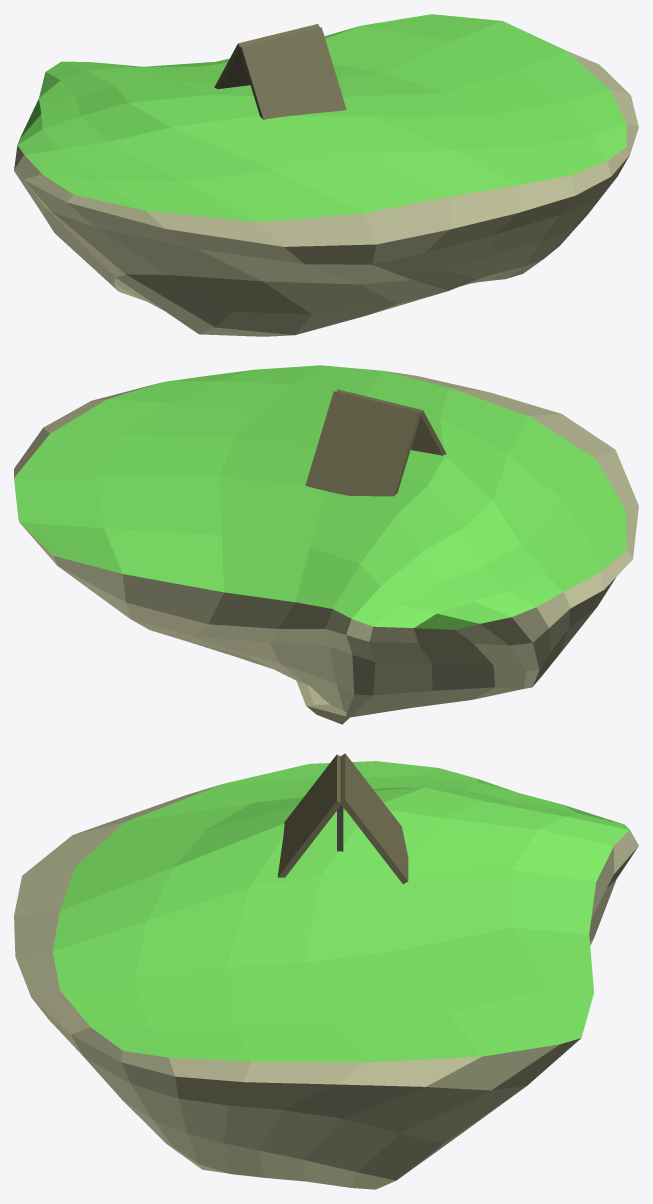
File: Island3.fbx
3 renders of one model, top to bottom at view 1: azimuth 30°, elevation 25°; view 2: azimuth 150°, elevation 25°; view 3: azimuth 270°, elevation 25°, orthographic. The views are drawn at different scales.
Parts seen in each view (by area): view 1: Island 3, Cube, Cube.001; view 2: Island 3, Cube.001, Cube; view 3: Island 3, Cube.001, Cube.
Boxes of the visible parts, <box> form: Island 3: <box>14,14,638,336</box>; Cube: <box>239,27,346,120</box>; Cube.001: <box>214,24,319,88</box>; Island 3: <box>14,365,638,724</box>; Cube.001: <box>305,391,421,496</box>; Cube: <box>336,389,446,455</box>; Island 3: <box>14,761,638,1189</box>; Cube.001: <box>340,753,408,884</box>; Cube: <box>277,754,341,877</box>.
Size of the model in its own units: 1374 by 644 by 1138.
